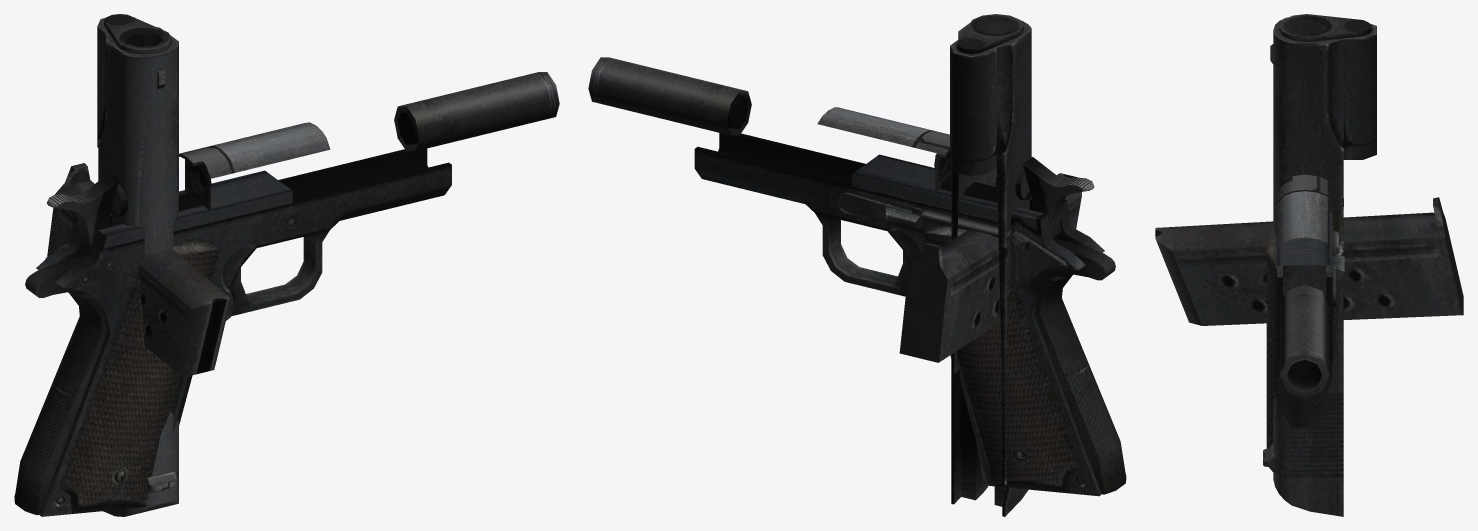
The model's file is Colt45.obj.
The picture shows the model from 3 angles, left to right: view 1: azimuth 30°, elevation 25°; view 2: azimuth 150°, elevation 25°; view 3: azimuth 270°, elevation 25°; orthographic projection.
Visible parts, largest first — view 1: Model_Colt, Model_Handle, Model_Marazine; view 2: Model_Colt, Model_Handle, Model_Marazine; view 3: Model_Handle, Model_Marazine, Model_Colt.
Part boxes in pixels (box(x1,y1,x2,y2)): Model_Colt: box(14, 72, 559, 516); Model_Handle: box(97, 14, 178, 516); Model_Marazine: box(47, 163, 230, 375); Model_Colt: box(588, 57, 1126, 496); Model_Handle: box(950, 14, 1031, 516); Model_Marazine: box(899, 173, 1081, 362); Model_Handle: box(1263, 14, 1376, 516); Model_Marazine: box(1155, 197, 1463, 325); Model_Colt: box(1266, 174, 1344, 448).
Bounding box in the file's own units: 0.2161 × 0.1871 × 0.1093.
1 material, 1 textured.
